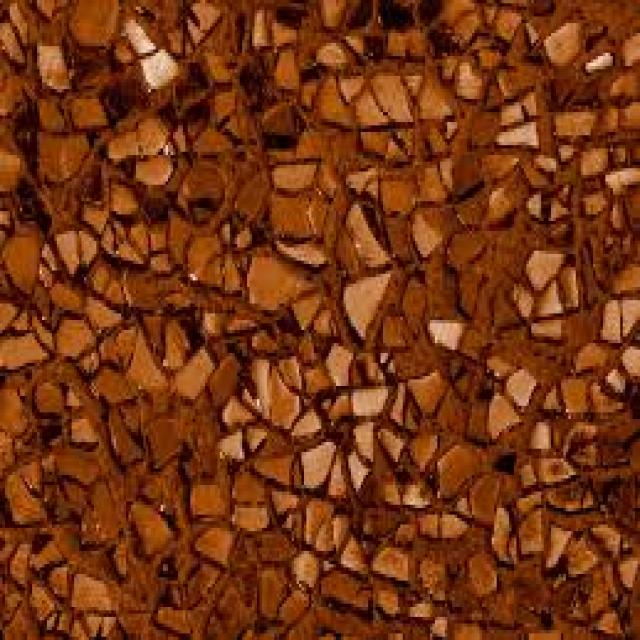glass: (0, 0, 638, 637), (119, 14, 185, 93), (35, 148, 99, 221), (556, 23, 620, 89), (240, 244, 309, 304), (116, 109, 176, 178), (180, 383, 220, 482), (334, 198, 391, 267), (376, 175, 420, 264), (158, 574, 220, 637), (201, 577, 265, 637), (153, 521, 198, 604), (67, 574, 126, 637), (121, 257, 188, 310), (0, 376, 40, 462), (79, 482, 131, 548), (492, 36, 546, 99), (314, 554, 368, 617), (175, 148, 230, 208), (61, 0, 128, 49), (190, 37, 247, 93), (138, 0, 192, 59), (376, 416, 423, 482), (22, 571, 74, 630), (257, 564, 299, 637), (109, 564, 151, 637), (74, 46, 131, 99), (274, 587, 334, 637), (121, 327, 166, 393), (541, 3, 588, 66), (312, 73, 364, 129), (341, 264, 385, 330), (0, 221, 42, 290), (440, 221, 497, 271), (418, 244, 457, 317), (218, 148, 265, 208), (181, 462, 233, 515), (54, 445, 99, 505), (509, 479, 544, 555), (511, 551, 561, 604), (494, 353, 541, 409), (489, 320, 536, 376), (482, 162, 529, 218), (89, 442, 128, 508), (405, 195, 445, 257), (0, 459, 40, 521), (210, 86, 252, 145), (418, 551, 462, 607), (455, 317, 499, 373), (420, 0, 477, 43), (462, 277, 499, 343), (260, 353, 297, 419), (52, 525, 89, 591), (539, 518, 581, 574), (433, 436, 475, 492), (279, 330, 321, 386), (363, 122, 410, 172), (146, 594, 200, 637), (326, 446, 361, 512), (47, 238, 94, 287), (608, 475, 637, 554), (344, 17, 378, 83), (225, 535, 259, 601), (190, 116, 242, 159), (129, 498, 171, 551), (566, 422, 610, 472), (511, 244, 566, 284), (32, 125, 87, 165), (0, 174, 44, 224), (188, 525, 235, 571), (314, 597, 368, 637), (405, 363, 445, 416), (181, 4, 245, 37), (391, 323, 433, 373), (101, 521, 136, 581), (0, 581, 37, 637), (314, 40, 358, 86), (178, 221, 222, 267), (546, 465, 596, 505), (445, 185, 482, 238), (448, 142, 485, 195), (138, 406, 178, 455), (116, 449, 156, 498), (593, 297, 638, 340), (569, 568, 611, 614), (52, 314, 94, 360), (178, 340, 217, 389), (440, 46, 474, 102), (287, 17, 321, 73), (0, 112, 27, 182), (188, 280, 235, 320), (267, 231, 329, 261), (532, 280, 569, 330), (30, 26, 67, 76), (494, 218, 534, 264), (247, 439, 287, 485), (200, 304, 240, 350), (99, 317, 136, 366), (371, 535, 413, 578), (307, 142, 349, 185), (139, 139, 181, 182), (97, 175, 139, 218), (203, 350, 237, 403), (583, 224, 613, 284), (549, 370, 588, 416), (149, 456, 181, 512), (445, 109, 489, 148), (519, 607, 576, 637), (297, 436, 334, 482), (107, 406, 144, 452), (126, 558, 163, 604), (596, 412, 638, 452), (494, 89, 536, 129), (22, 291, 52, 347), (324, 531, 363, 574), (233, 317, 275, 356), (89, 360, 131, 399), (79, 343, 119, 383), (89, 208, 126, 251), (576, 235, 596, 314), (94, 271, 128, 317), (25, 521, 64, 561), (482, 498, 511, 551), (445, 617, 521, 637), (35, 261, 77, 297), (521, 406, 556, 449), (353, 165, 388, 208), (264, 142, 299, 185), (64, 228, 99, 271), (218, 241, 242, 303), (7, 0, 64, 26), (425, 313, 465, 350), (378, 310, 415, 350), (467, 469, 499, 515), (435, 495, 469, 538), (30, 356, 64, 399), (282, 280, 321, 317), (82, 294, 119, 333), (536, 76, 556, 148), (467, 541, 494, 594), (0, 521, 27, 574), (62, 360, 91, 409), (348, 346, 383, 386), (549, 103, 591, 136), (428, 380, 460, 423), (336, 56, 368, 99), (354, 498, 391, 535), (260, 16, 297, 53), (0, 327, 35, 366), (267, 46, 301, 86), (593, 607, 638, 637), (349, 412, 376, 462), (401, 277, 428, 327), (30, 416, 67, 452), (371, 459, 398, 508), (69, 93, 109, 126), (215, 386, 247, 426), (27, 79, 59, 119), (477, 145, 519, 175), (406, 419, 433, 465), (72, 400, 99, 446), (618, 548, 638, 610), (250, 357, 272, 413), (574, 138, 606, 175), (116, 402, 148, 439), (571, 178, 610, 208), (269, 195, 309, 224), (603, 192, 628, 238), (489, 284, 514, 330), (195, 244, 220, 290), (161, 109, 190, 148), (603, 60, 637, 93), (304, 304, 338, 337), (304, 488, 334, 525), (311, 0, 353, 26), (588, 515, 618, 551), (346, 452, 373, 492), (257, 89, 287, 125), (2, 0, 32, 36), (458, 386, 480, 435), (448, 568, 480, 601), (371, 574, 403, 607), (223, 208, 255, 241), (158, 317, 190, 350), (492, 115, 531, 142), (586, 383, 615, 419), (245, 320, 274, 356), (119, 221, 148, 257), (252, 528, 292, 554), (482, 389, 506, 432), (512, 274, 534, 320), (527, 188, 559, 218), (485, 0, 517, 30), (230, 475, 262, 505), (455, 251, 472, 307), (485, 581, 517, 610), (480, 429, 512, 458), (573, 343, 603, 373), (136, 393, 163, 426), (611, 257, 638, 287), (285, 541, 312, 571), (556, 261, 571, 314), (591, 99, 613, 135), (443, 350, 465, 386), (329, 505, 351, 541), (265, 485, 287, 521), (532, 142, 559, 171), (294, 125, 339, 142), (603, 165, 635, 188), (475, 248, 507, 271), (356, 386, 388, 409), (146, 221, 170, 251), (408, 594, 432, 623), (0, 16, 17, 56), (531, 313, 556, 340), (418, 614, 447, 637), (413, 505, 433, 538), (516, 452, 534, 488), (232, 502, 262, 522), (0, 297, 20, 327), (616, 99, 638, 125), (618, 337, 635, 370), (470, 36, 494, 56), (114, 343, 138, 363), (608, 363, 623, 392), (534, 455, 558, 472), (148, 244, 168, 264), (556, 139, 573, 155), (393, 522, 410, 535)
